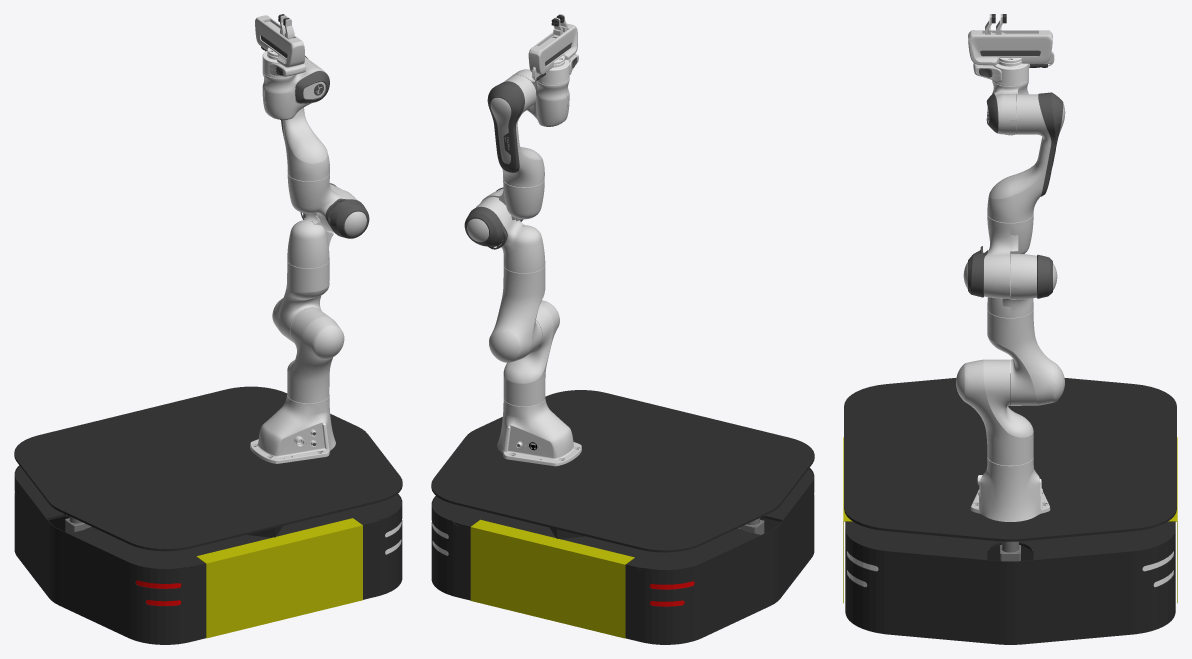
The model's file is ridgeback_franka.optimized.glb.
3 views of the same model, side by side, from view 1: azimuth 30°, elevation 25°; view 2: azimuth 150°, elevation 25°; view 3: azimuth 270°, elevation 25° (orthographic). The views are drawn at different scales.
Parts seen in each view (by area): view 1: Base, Link0, Link1, Link4, Link6, Link5, Link2, Link3, Hand, Link7; view 2: Base, Link0, Link5, Link2, Link3, Link1, Link6, Hand, Link4, Link7; view 3: Base, Link1, Link5, Link2, Link0, Link4, Hand, Link3, Link6, Link7.
Part boxes in pixels (<box>): Base: <box>14,386,402,644</box>; Link0: <box>250,394,335,463</box>; Link1: <box>287,308,344,403</box>; Link4: <box>287,173,369,238</box>; Link6: <box>262,63,329,119</box>; Link5: <box>281,56,329,181</box>; Link2: <box>272,260,329,342</box>; Link3: <box>287,183,342,268</box>; Hand: <box>255,15,304,67</box>; Link7: <box>262,51,305,78</box>; Base: <box>431,390,814,644</box>; Link0: <box>497,398,581,466</box>; Link5: <box>487,75,544,187</box>; Link2: <box>489,265,545,362</box>; Link3: <box>464,197,545,273</box>; Link1: <box>503,300,559,406</box>; Link6: <box>511,69,569,126</box>; Hand: <box>528,23,577,80</box>; Link4: <box>481,178,544,221</box>; Link7: <box>537,54,578,85</box>; Base: <box>843,373,1177,644</box>; Link1: <box>956,359,1033,465</box>; Link5: <box>987,92,1065,222</box>; Link2: <box>987,309,1064,405</box>; Link0: <box>970,457,1050,521</box>; Link4: <box>963,214,1033,298</box>; Hand: <box>968,30,1054,67</box>; Link3: <box>987,253,1057,317</box>; Link6: <box>986,80,1028,135</box>; Link7: <box>973,61,1030,86</box>.
Size of the model in its own units: 0.9325 by 1.53 by 0.7931.
1 material, 1 textured.
